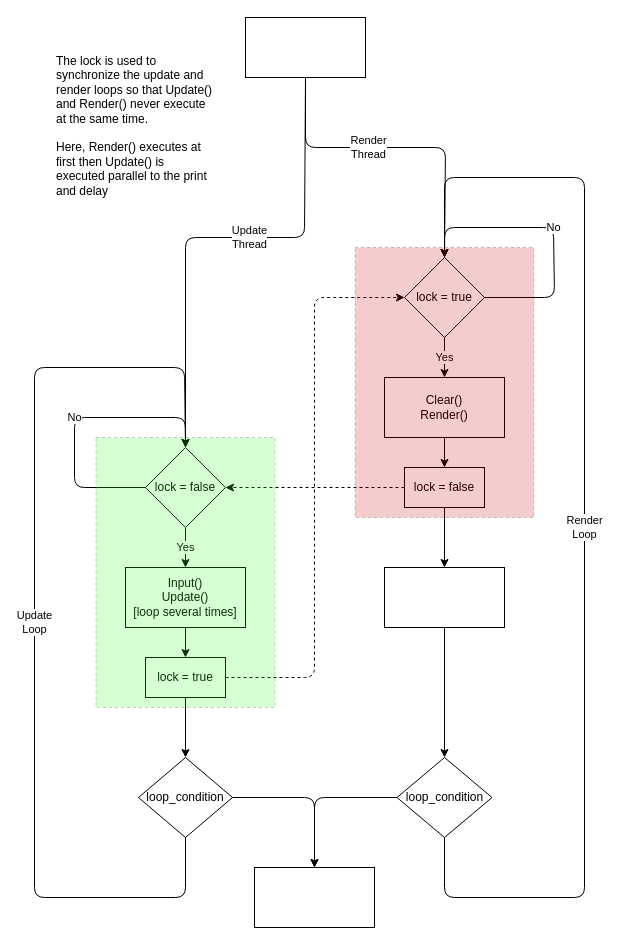
This 620x945 diagram has some shape labels left out. Each missing label, with the box of its shape:
Create() lock = true: (244, 16, 366, 78)
Destroy(): (254, 866, 374, 928)
Print() Delay(): (384, 566, 504, 628)
